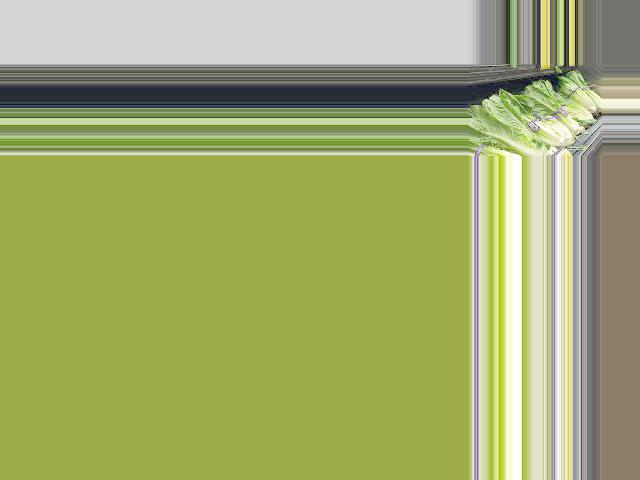lettuce: (469, 98, 546, 152)
